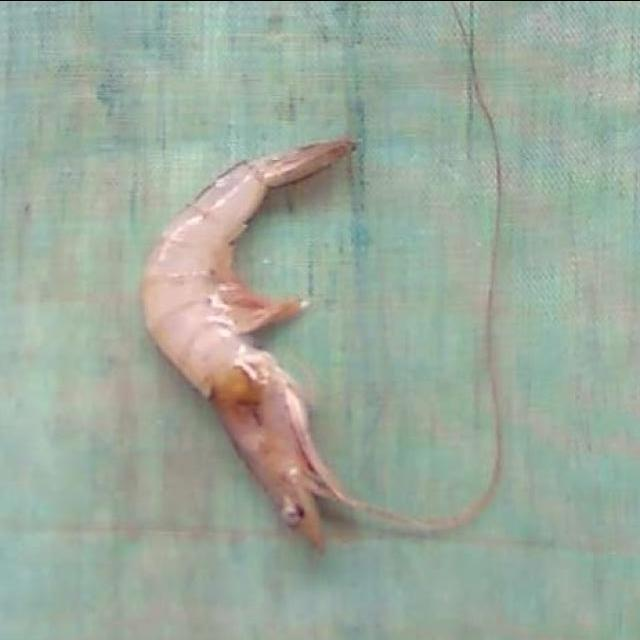shrimp: (142, 137, 364, 547)
